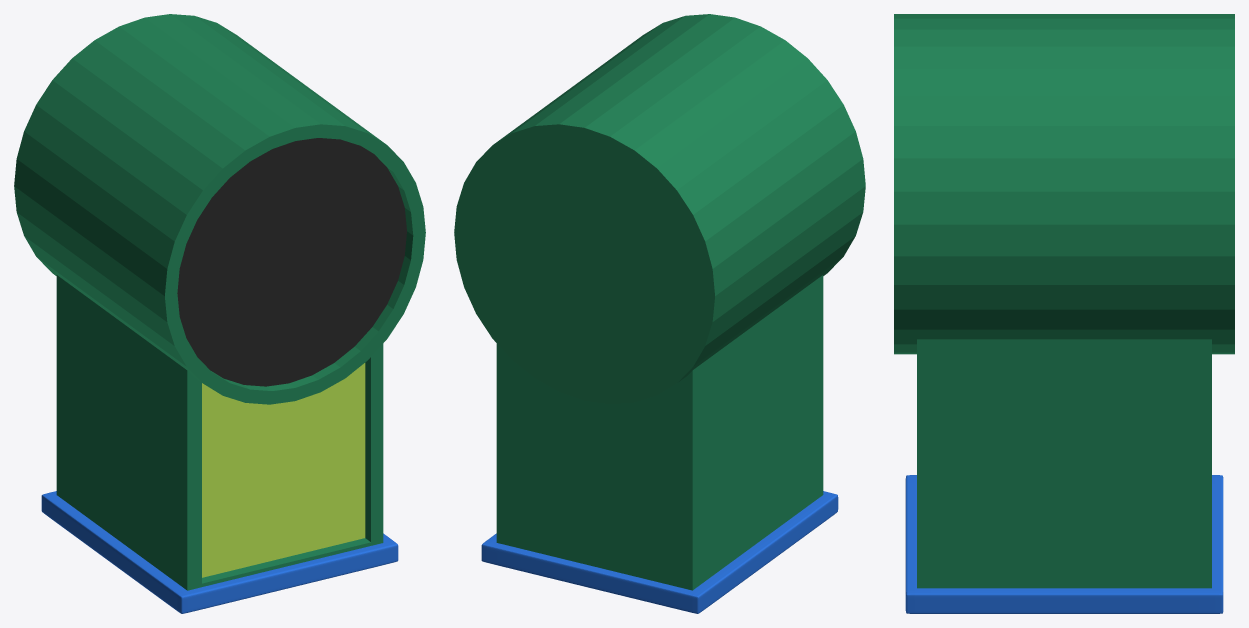
Rendered from clock.fbx.
The picture shows the model from 3 angles, left to right: view 1: azimuth 30°, elevation 25°; view 2: azimuth 150°, elevation 25°; view 3: azimuth 270°, elevation 25°; orthographic projection. The views are drawn at different scales.
Parts seen in each view (by area): view 1: top, clock face, bottom, bottom board, bottom base; view 2: top, bottom, bottom base; view 3: top, bottom, bottom base.
Boxes of the visible parts, x1,y1,x2,y2 form: top: (14,14,425,404); clock face: (177,138,406,386); bottom: (56,275,383,590); bottom board: (202,363,365,577); bottom base: (41,491,398,613); top: (454,14,865,404); bottom: (496,275,823,590); bottom base: (481,491,838,613); top: (894,14,1234,354); bottom: (917,339,1211,588); bottom base: (905,475,1223,613).
Size of the model in its own units: 600 by 1020 by 600.
